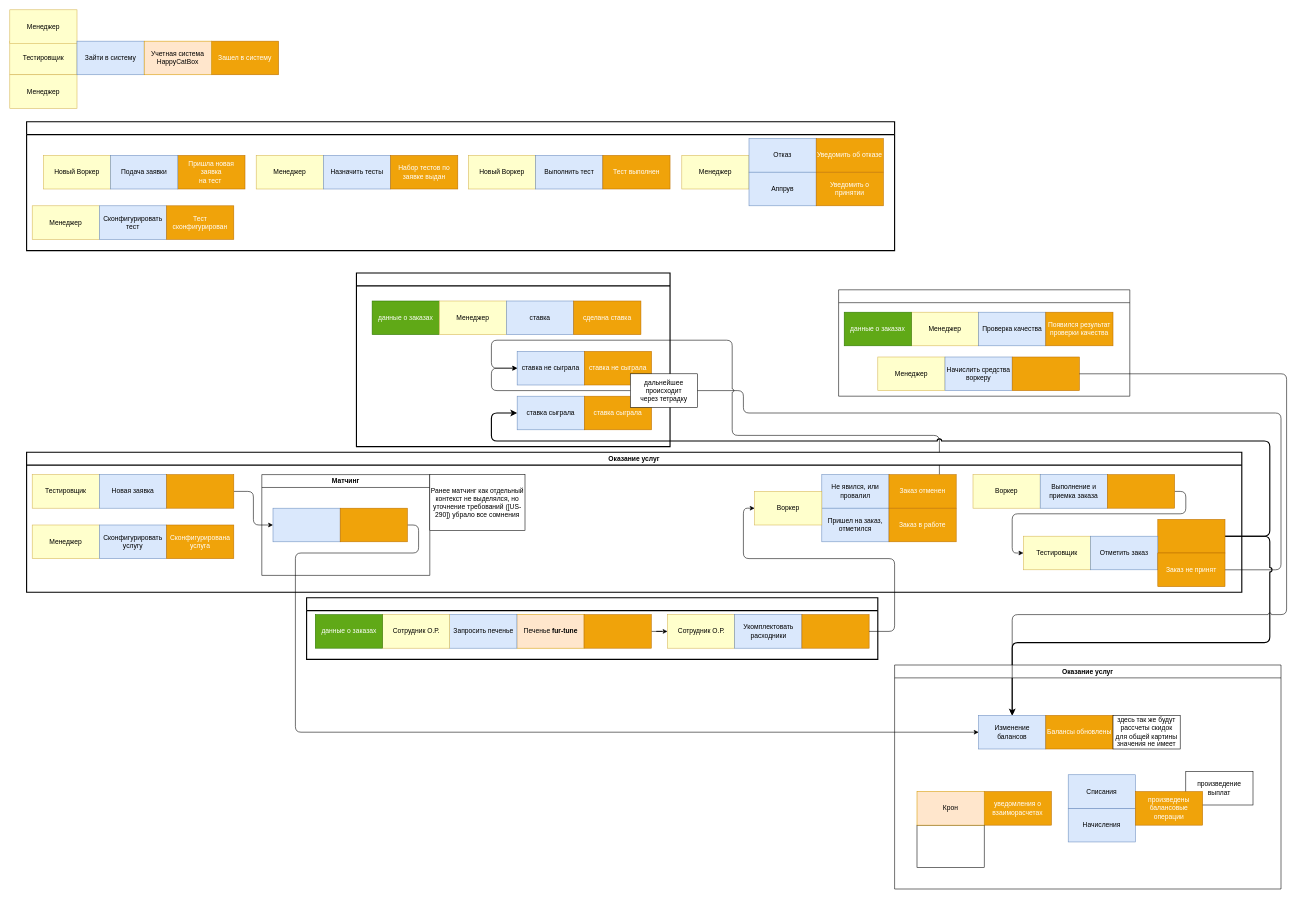
Image size: 1301x899. Some labels were removed from this diagram. Each missing label, with the box of its shape:
Заказ выполнен: (1107, 474, 1175, 508)
Заказ принят: (1157, 519, 1225, 553)
Заказу назначен воркер: (340, 508, 407, 542)
Контроль качества: (838, 289, 1130, 396)
крон каждую неделю, т.к. есть кейсы раз в две недели и раз в месяц: (916, 825, 984, 868)
Начислены средства воркеру: (1012, 356, 1079, 391)
Обеспечение расходниками: (306, 597, 878, 660)
Печенье пришло: (584, 614, 651, 648)
Провести матчинг назначить воркера: (272, 508, 340, 542)
Расходники готовы: (801, 614, 869, 648)
Создан новый заказ: (166, 474, 234, 508)
Ставки: (356, 272, 670, 447)
Тестирование и определение характеристик: (26, 121, 895, 251)
